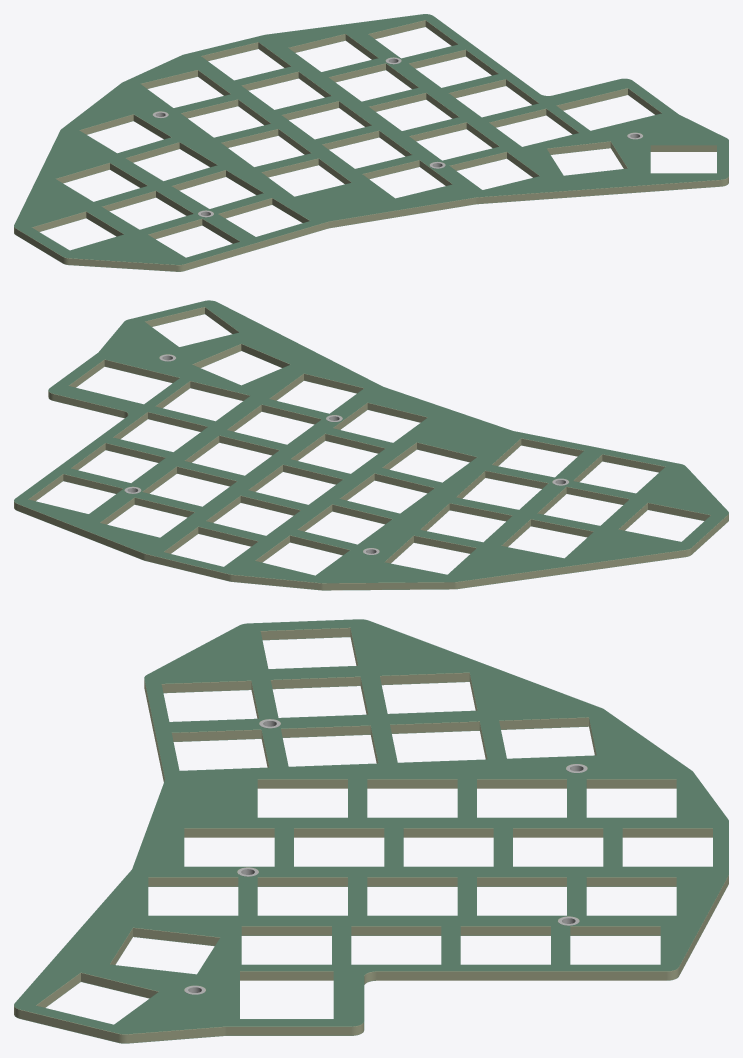
Rendered from board.glb.
The picture shows the model from 3 angles, top to bottom: view 1: azimuth 30°, elevation 25°; view 2: azimuth 150°, elevation 25°; view 3: azimuth 270°, elevation 25°; orthographic projection. The views are drawn at different scales.
Parts seen in each view (by area): view 1: board_PCB, board_soldermask (×2), board_pad; view 2: board_PCB, board_soldermask (×2), board_pad; view 3: board_PCB, board_soldermask (×2), board_pad.
Boxes of the visible parts, x1=… form: board_PCB: x1=14, y1=15, x2=728, y2=271; board_soldermask (×2): x1=14, y1=14, x2=728, y2=271; board_pad: x1=153, y1=57, x2=642, y2=217; board_PCB: x1=14, y1=301, x2=728, y2=590; board_soldermask (×2): x1=14, y1=300, x2=728, y2=590; board_pad: x1=124, y1=354, x2=568, y2=554; board_PCB: x1=14, y1=620, x2=728, y2=1043; board_soldermask (×2): x1=14, y1=619, x2=728, y2=1043; board_pad: x1=184, y1=719, x2=587, y2=994.
Size of the model in its own units: 0.1524 by 0.00161 by 0.1109.
